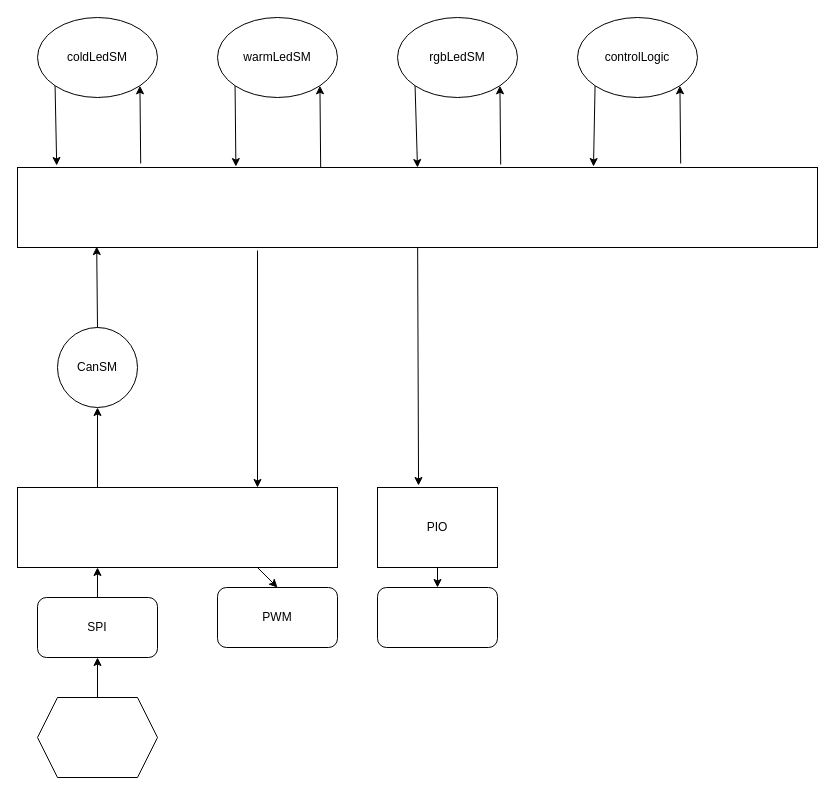
Image size: 835x795. Some labels were removed from this diagram. Each missing label, with the centre of its shape:
IOHWAB: (x=177, y=527)
IPC: (x=417, y=207)
MCP2515: (x=97, y=737)
WS2812: (x=437, y=617)
